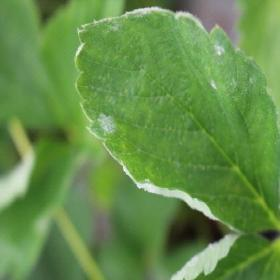Powdery Mildew Leaf: (74, 6, 279, 234), (167, 231, 279, 279)
